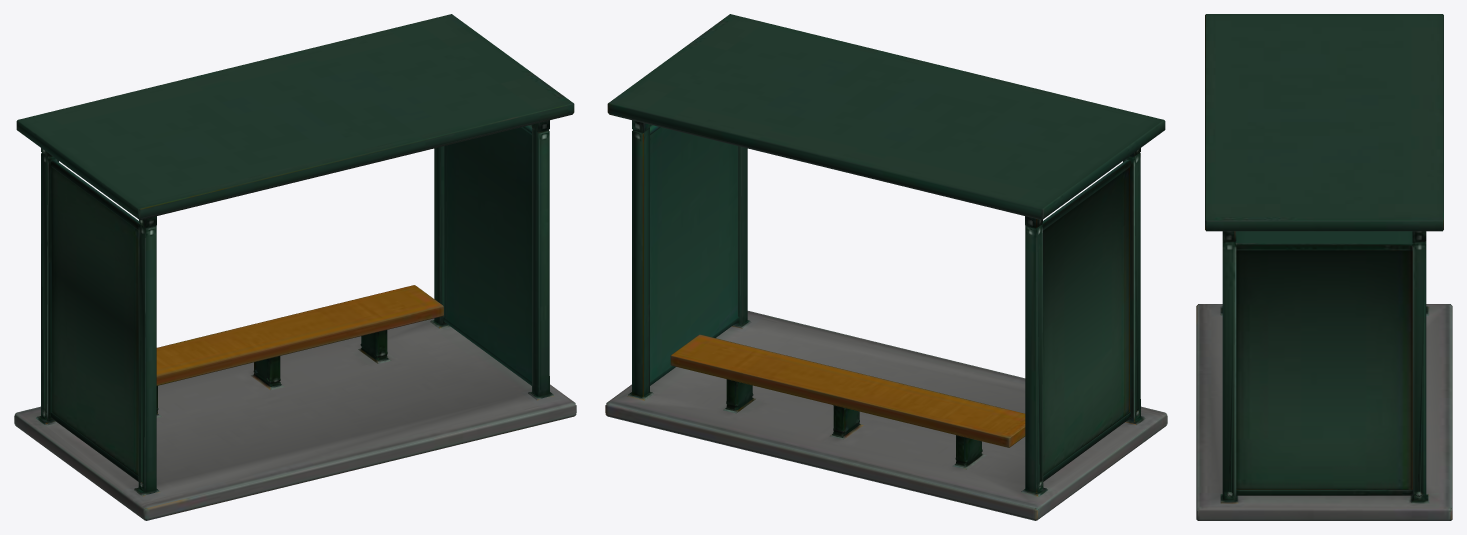
The model's file is bus-shelter.glb.
3 renders of one model, left to right at view 1: azimuth 30°, elevation 25°; view 2: azimuth 150°, elevation 25°; view 3: azimuth 270°, elevation 25°, orthographic. The views are drawn at different scales.
Parts seen in each view (by area): view 1: Bus-shelterBody; view 2: Bus-shelterBody; view 3: Bus-shelterBody.
Part boxes in pixels (bbox=[...]): Bus-shelterBody: bbox=[14, 14, 576, 520]; Bus-shelterBody: bbox=[605, 14, 1167, 520]; Bus-shelterBody: bbox=[1196, 14, 1452, 520].
Bounding box in the file's own units: 4.4 × 2.99 × 2.3.
Materials: 1 (1 with a texture image).
